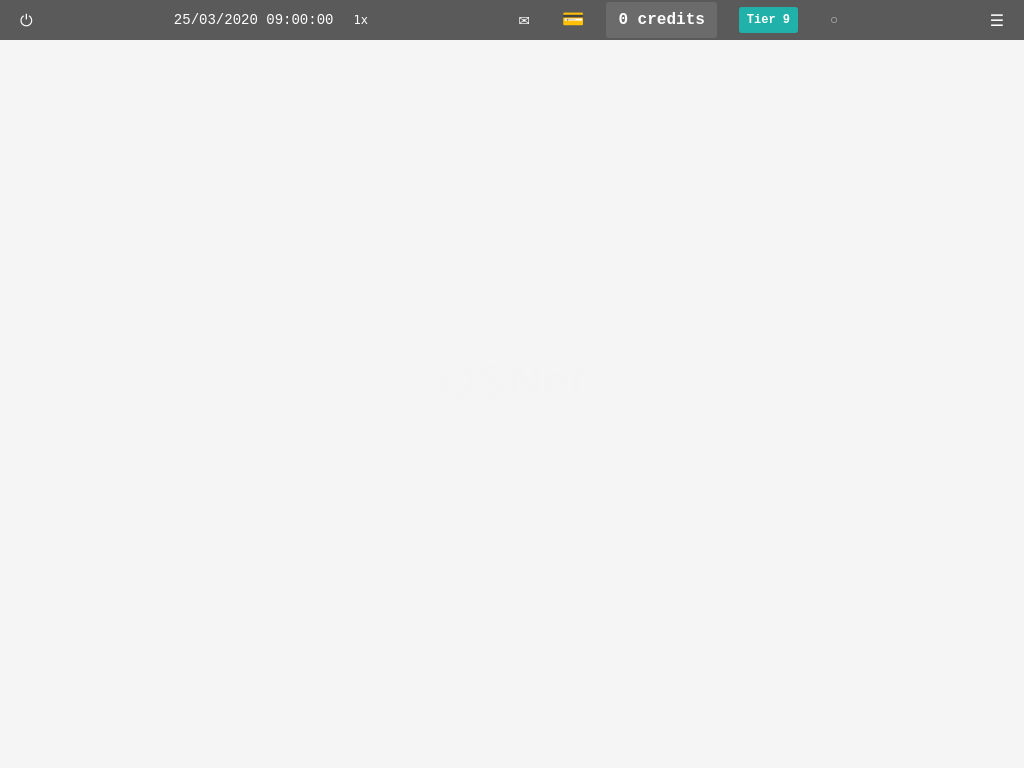
Scenario: Window Management Integration › should handle complete window lifecycle: open → minimize → restore → close
The width and height of the screenshot is (1024, 768).
# Open Mail app via app launcher
Step 1. Hover over the button "☰" → x=997, y=20, box x1=982 y1=6 x2=1012 y2=34
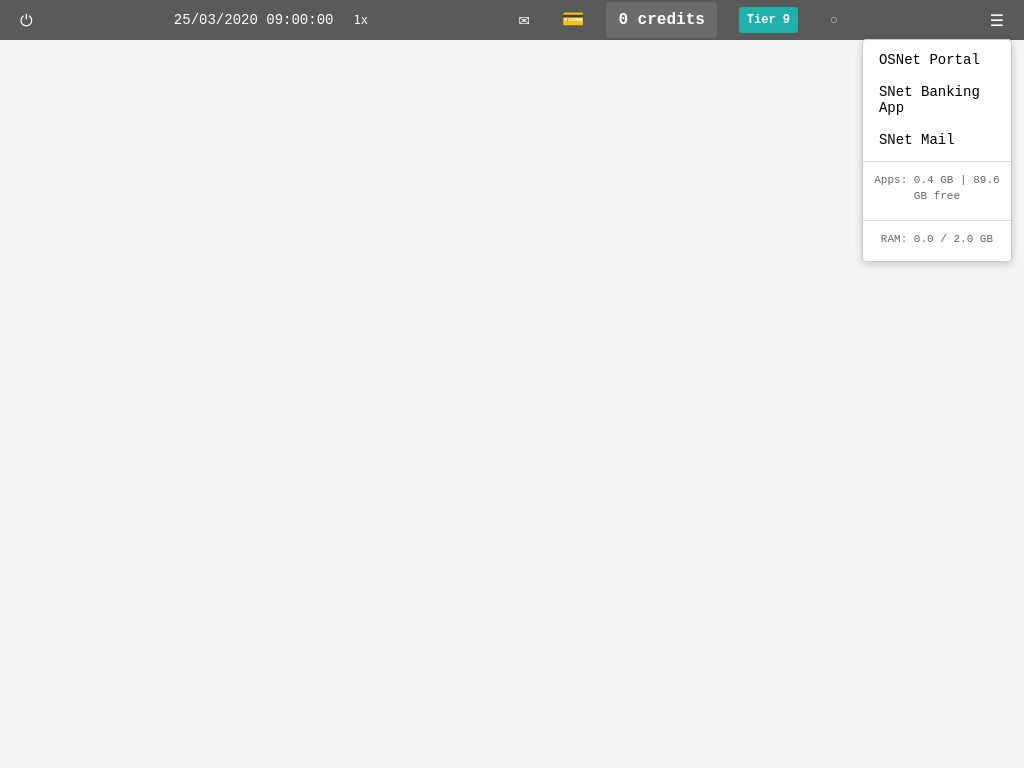
Expected: the button "SNet Mail" is shown
Step 2. Click the button "SNet Mail" → x=937, y=140, box x1=863 y1=124 x2=1011 y2=156
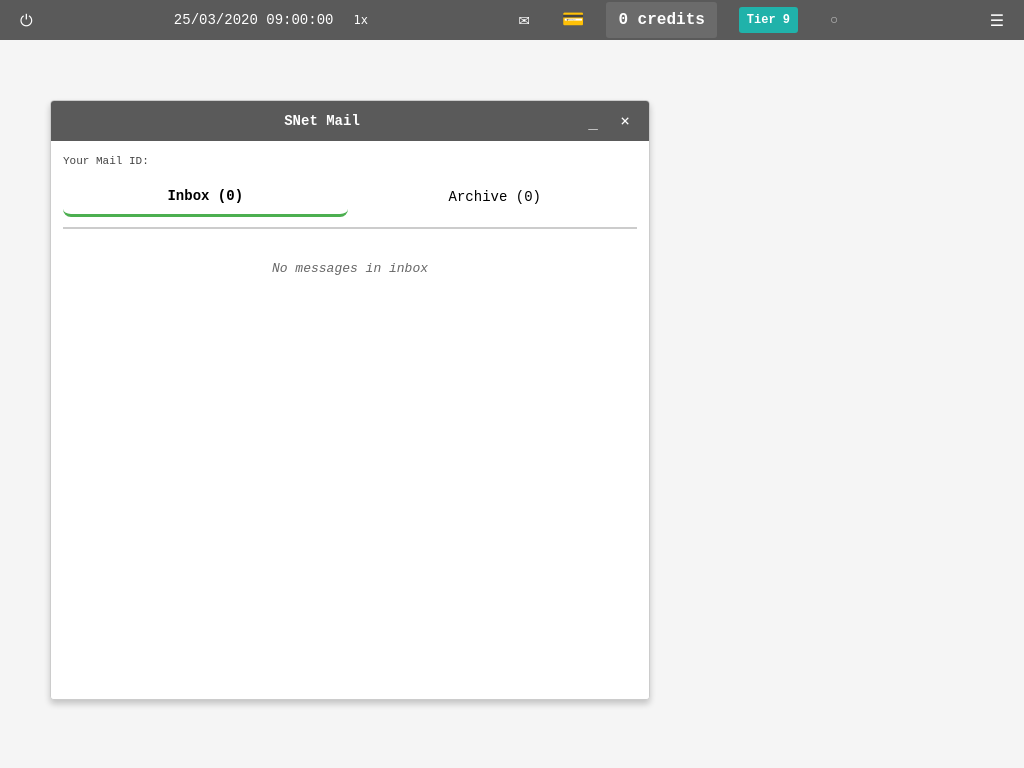
Expected: the element with class "window" is shown, x1=50 y1=100 x2=650 y2=700
# Minimize window
Step 3. Click the button titled "Minimize" → x=593, y=121, box x1=581 y1=109 x2=605 y2=133
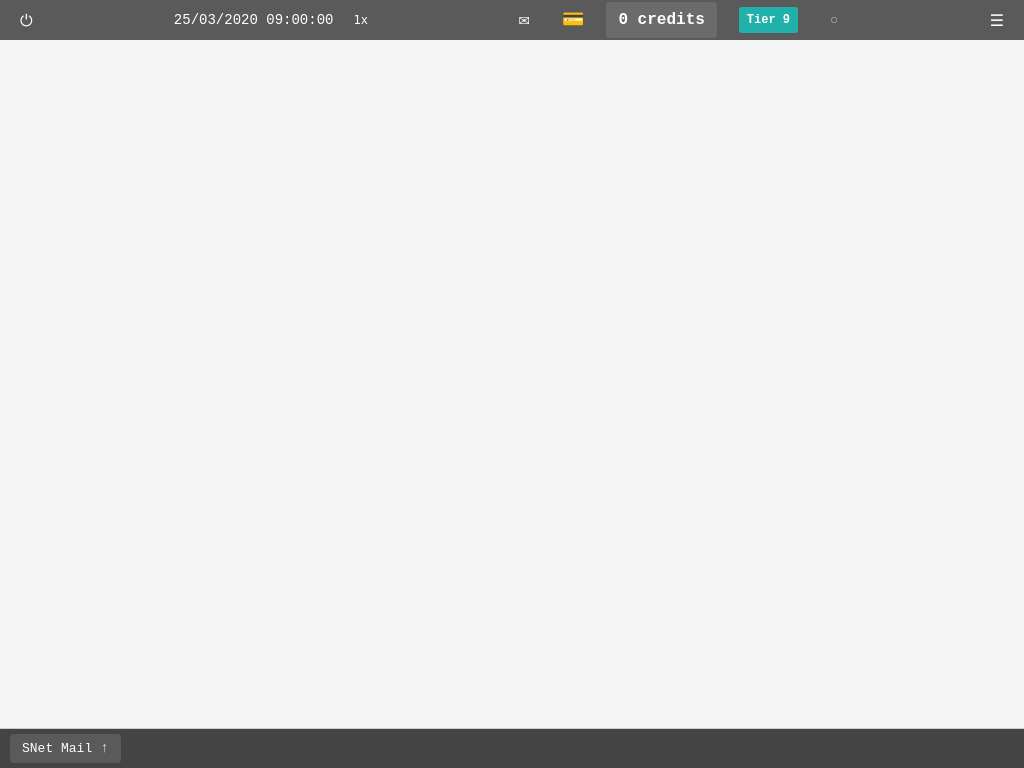
Expected: the element with class "minimized-window" is shown
# Restore window
Step 4. Click the element with class "minimized-window" → x=65, y=748, box x1=10 y1=734 x2=121 y2=763
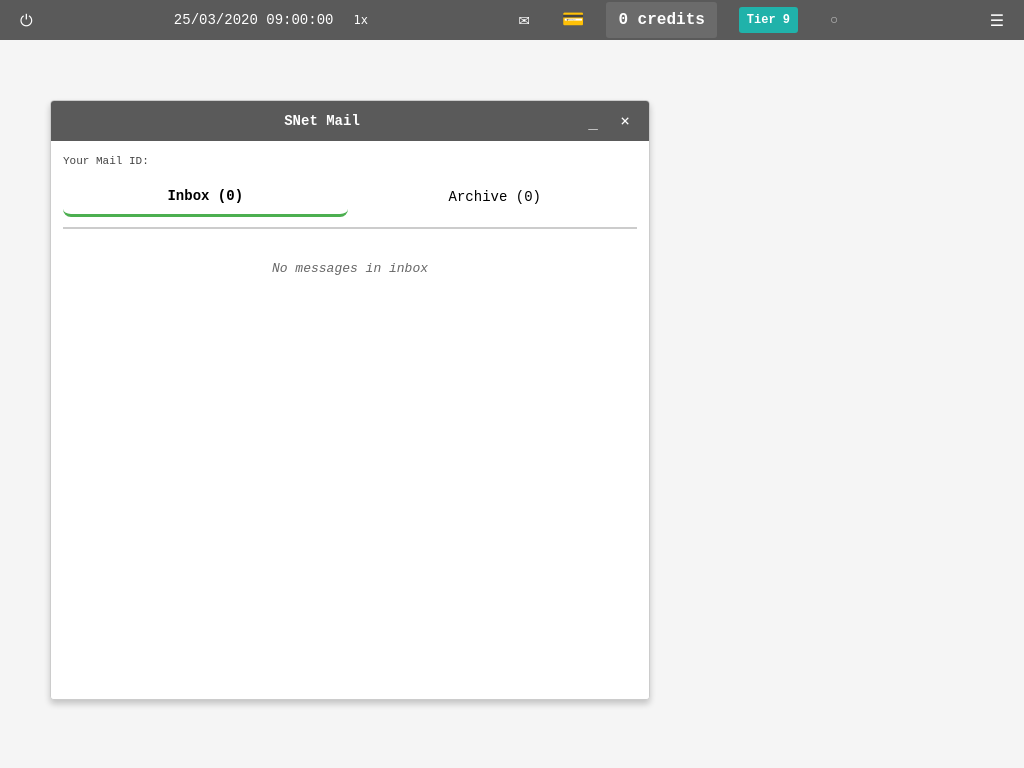
Expected: the element with class "window" is shown, x1=50 y1=100 x2=650 y2=700
# Close window
Step 5. Click the button titled "Close" → x=625, y=121, box x1=613 y1=109 x2=637 y2=133
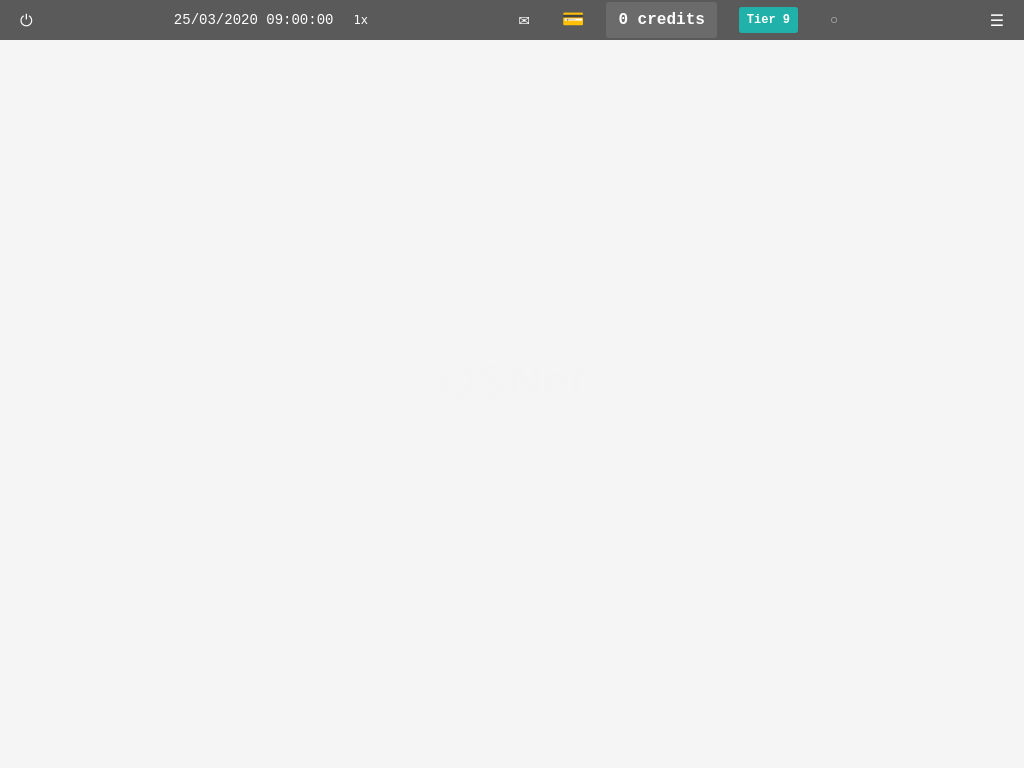
Expected: the element with class "window" is gone
